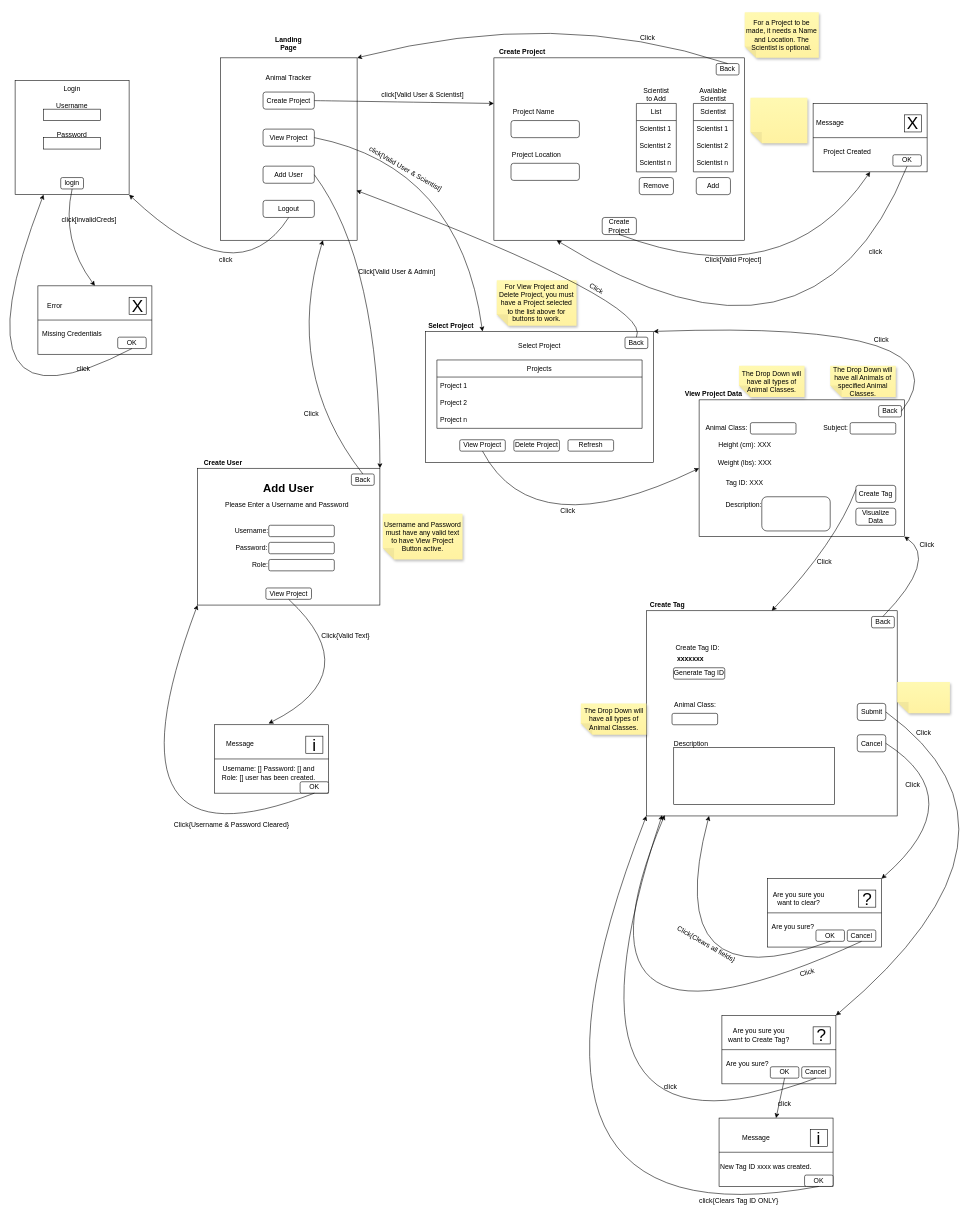
This 970x1219 diagram has some shape labels left out. The centre of each missing label's shape, as x and y in pixels:
All Fields must be filled out to submit: point 924,698
For Add and Remove, you must have a user selected to the list above.: point 779,121
